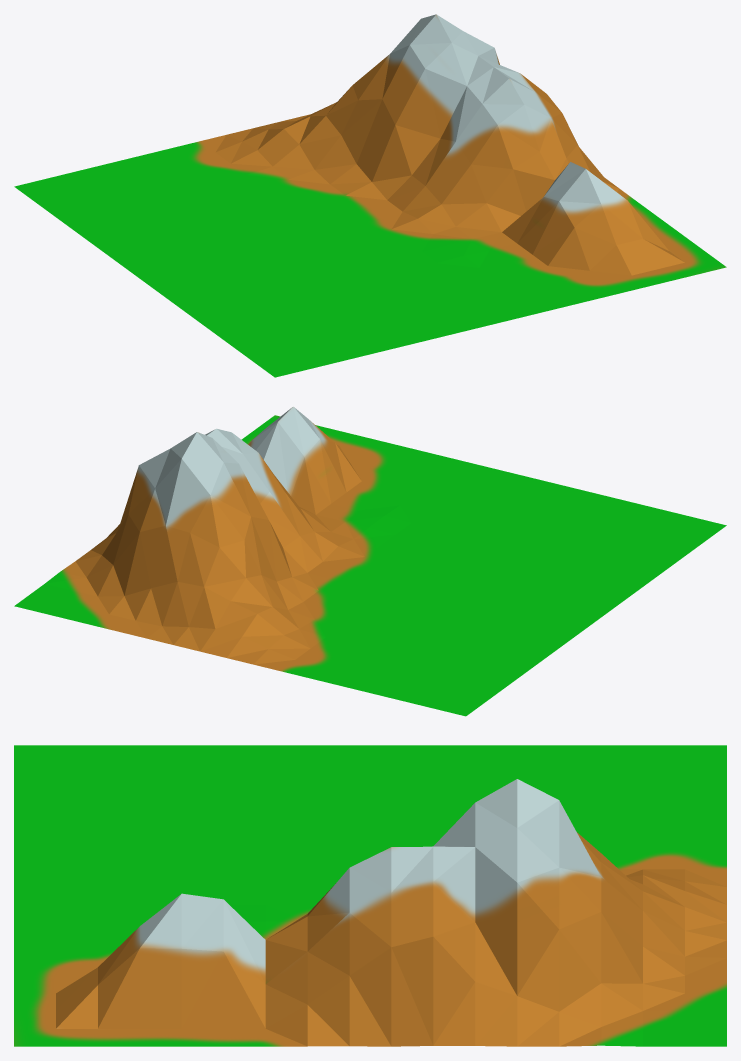
Rendered from mountain.obj.
The picture shows the model from 3 angles, top to bottom: view 1: azimuth 30°, elevation 25°; view 2: azimuth 150°, elevation 25°; view 3: azimuth 270°, elevation 25°; orthographic projection. The views are drawn at different scales.
Parts seen in each view (by area): view 1: 平面; view 2: 平面; view 3: 平面.
Boxes of the visible parts, bbox=[...] form: 平面: bbox=[14, 14, 726, 377]; 平面: bbox=[14, 406, 726, 716]; 平面: bbox=[14, 745, 726, 1046].
Bounding box in the file's own units: 40 × 12.19 × 40.
Materials: 1 (1 with a texture image).
